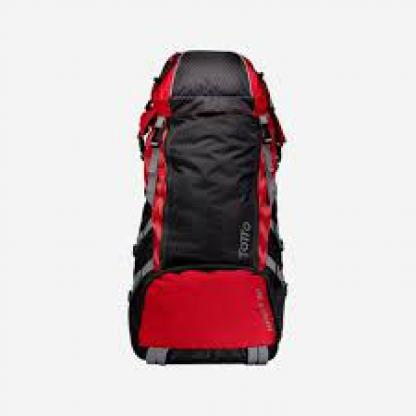morral: (120, 31, 298, 381)
